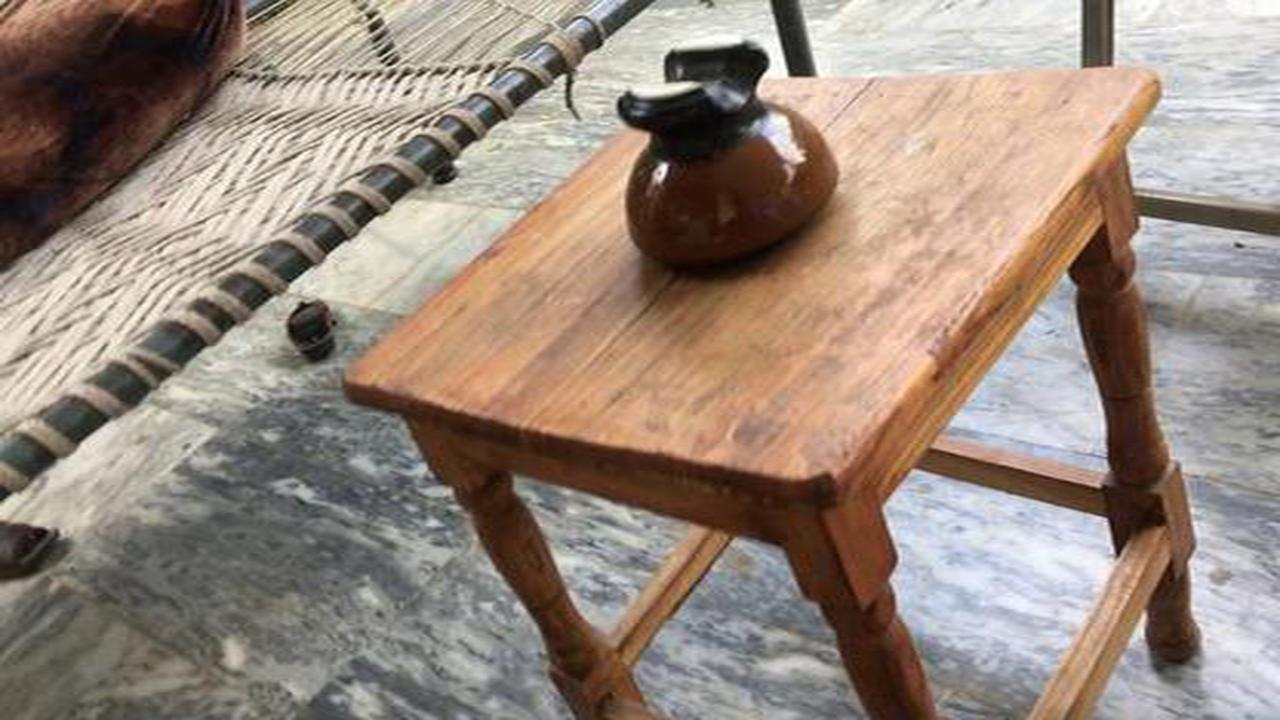insulator_pin: (607, 20, 853, 290)
